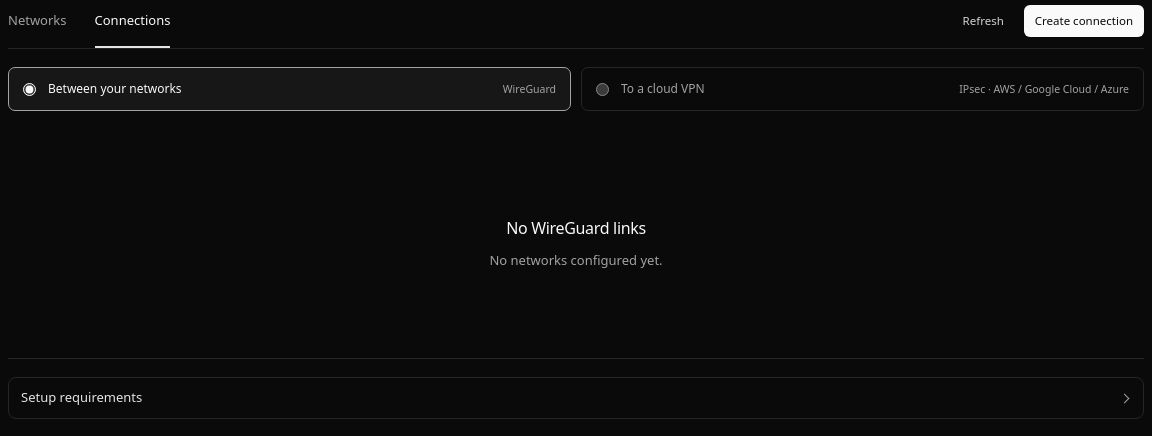
Test: loads IPsec only after choosing its method and leaves WireGuard as default
Expected: the text "No networks configured yet." is shown, [489,249,662,271]
Click the radio button labelled "To a cloud VPN IPsec · AWS / Google Cloud / Azure" at (602, 89), box [596,82,609,96]
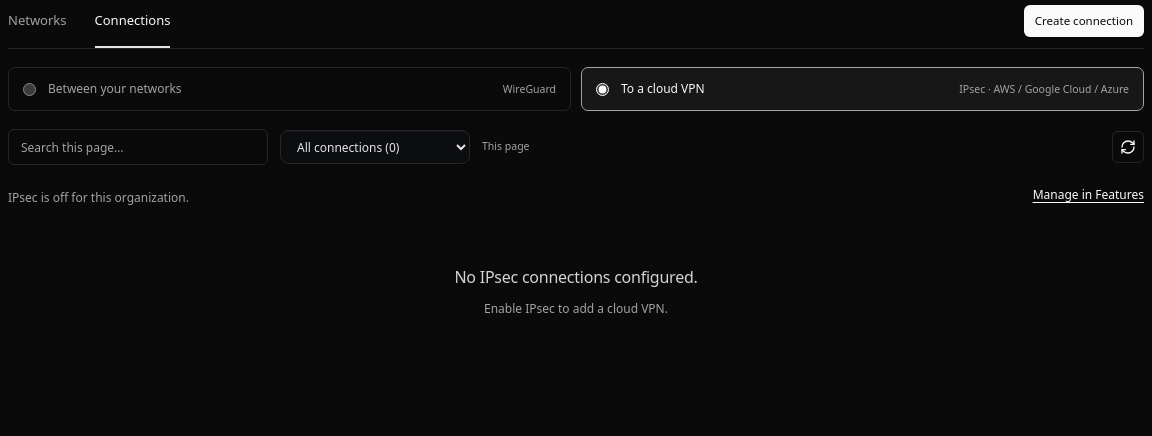
Expected: the button "Create connection" is shown, [1024,4,1144,36]
Result: the link "Manage in Features" is shown at [1033,186,1144,204]
Click the radio button labelled "Between your networks WireGuard" at (30, 89), box [23,82,36,96]
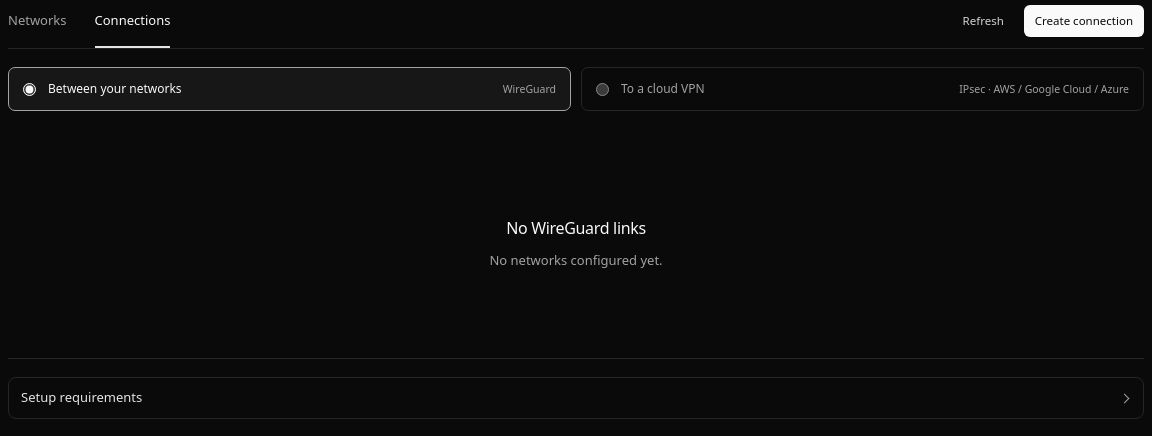
Result: the link "Manage in Features" is gone
Result: the text "No networks configured yet." is shown at [489,249,662,271]
